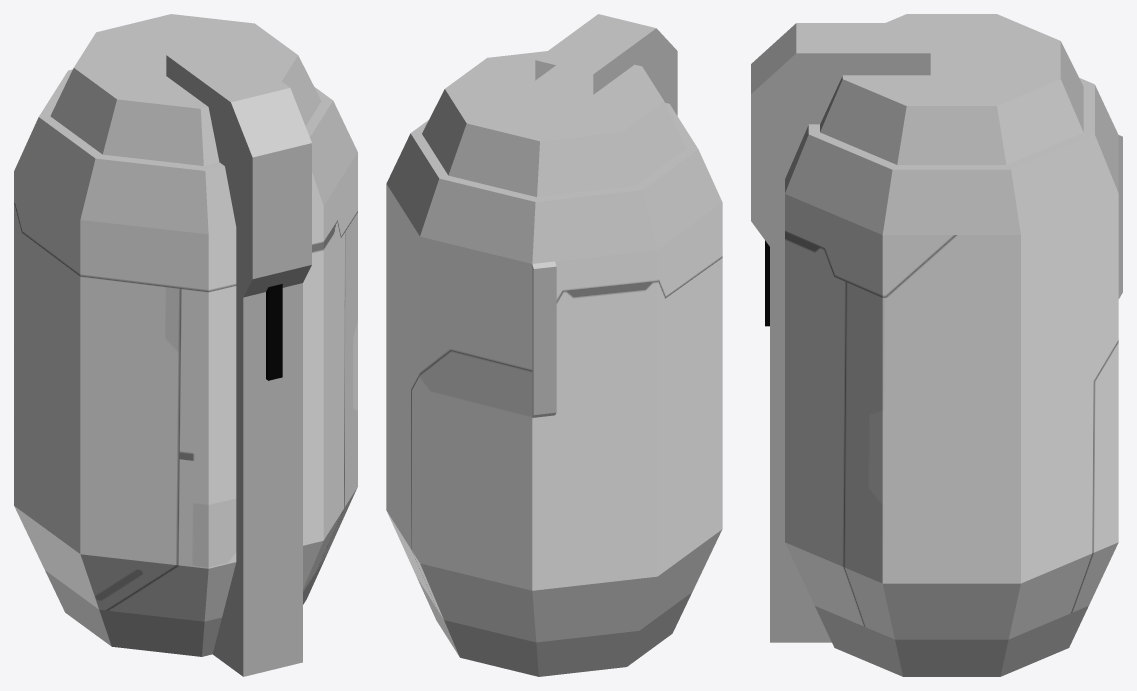
Rendered from SM_ContainerM_Cylinder_1.fbx.
3 views of the same model, side by side, from view 1: azimuth 30°, elevation 25°; view 2: azimuth 150°, elevation 25°; view 3: azimuth 270°, elevation 25° (orthographic). The views are drawn at different scales.
Visible parts, largest first — view 1: SM_ContainerM_Cylinder_1; view 2: SM_ContainerM_Cylinder_1; view 3: SM_ContainerM_Cylinder_1.
Boxes of the visible parts, bbox=[...] form: SM_ContainerM_Cylinder_1: bbox=[14, 14, 357, 676]; SM_ContainerM_Cylinder_1: bbox=[386, 14, 722, 676]; SM_ContainerM_Cylinder_1: bbox=[751, 14, 1122, 676].
Bounding box in the file's own units: 64.86 × 127 × 72.23.
